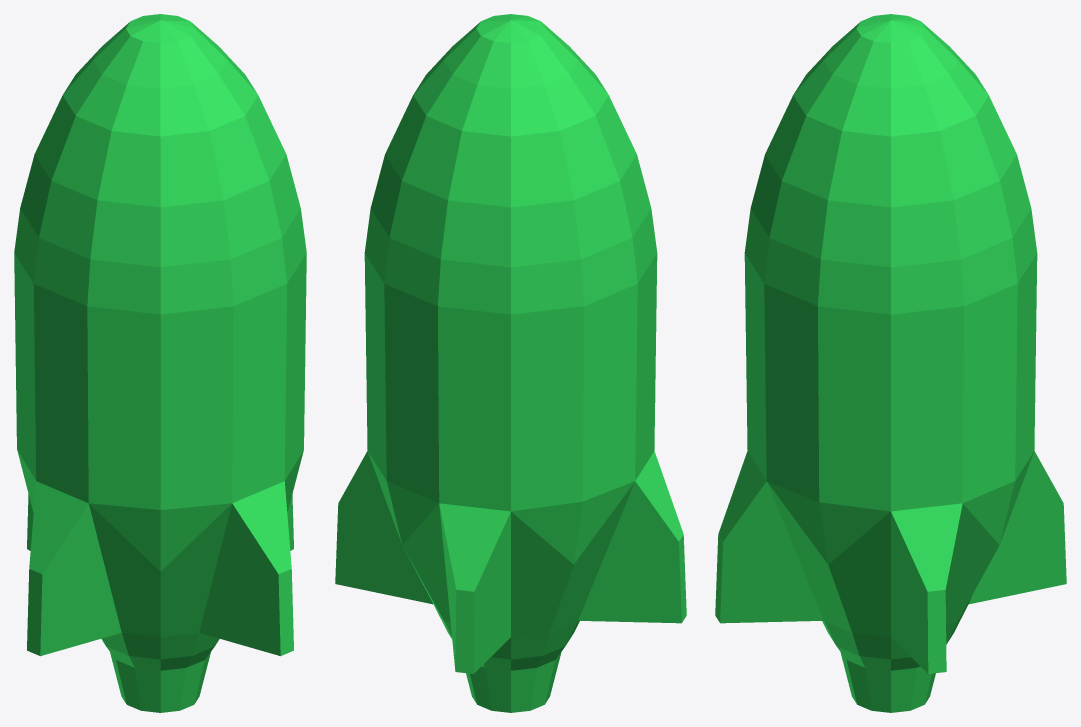
File: Missile 4.fbx
The picture shows the model from 3 angles, left to right: view 1: azimuth 30°, elevation 25°; view 2: azimuth 150°, elevation 25°; view 3: azimuth 270°, elevation 25°; orthographic projection.
Parts seen in each view (by area): view 1: Cube.001; view 2: Cube.001; view 3: Cube.001.
Boxes of the visible parts, <box> form: Cube.001: <box>14,14,306,712</box>; Cube.001: <box>335,14,686,712</box>; Cube.001: <box>715,14,1066,712</box>.
Bounding box in the file's own units: 512 × 1086 × 512.
